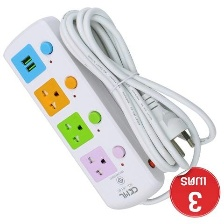three_eye_plug: (0, 13, 168, 212)
